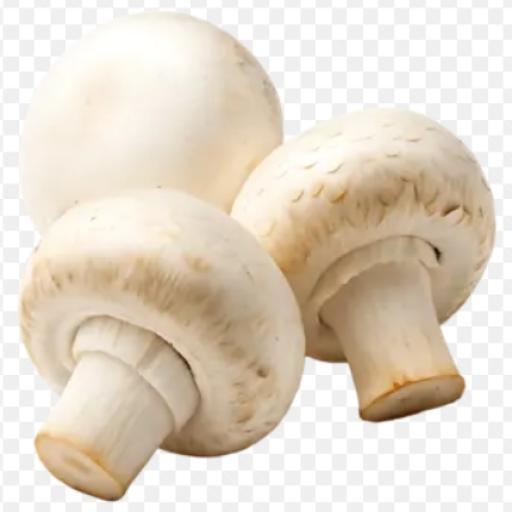mushroom: (18, 10, 496, 506)
